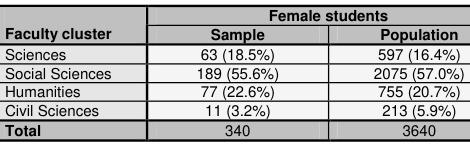table: (3, 3, 463, 139)
table column: (153, 3, 325, 139), (3, 3, 153, 139), (325, 3, 463, 139)
table column header: (3, 3, 463, 43)
table row: (3, 118, 463, 139), (3, 3, 463, 23), (3, 23, 463, 43), (3, 43, 463, 62), (3, 62, 463, 81), (3, 99, 463, 118), (3, 81, 463, 99)
table spanning cell: (153, 3, 463, 23), (3, 3, 153, 43)
